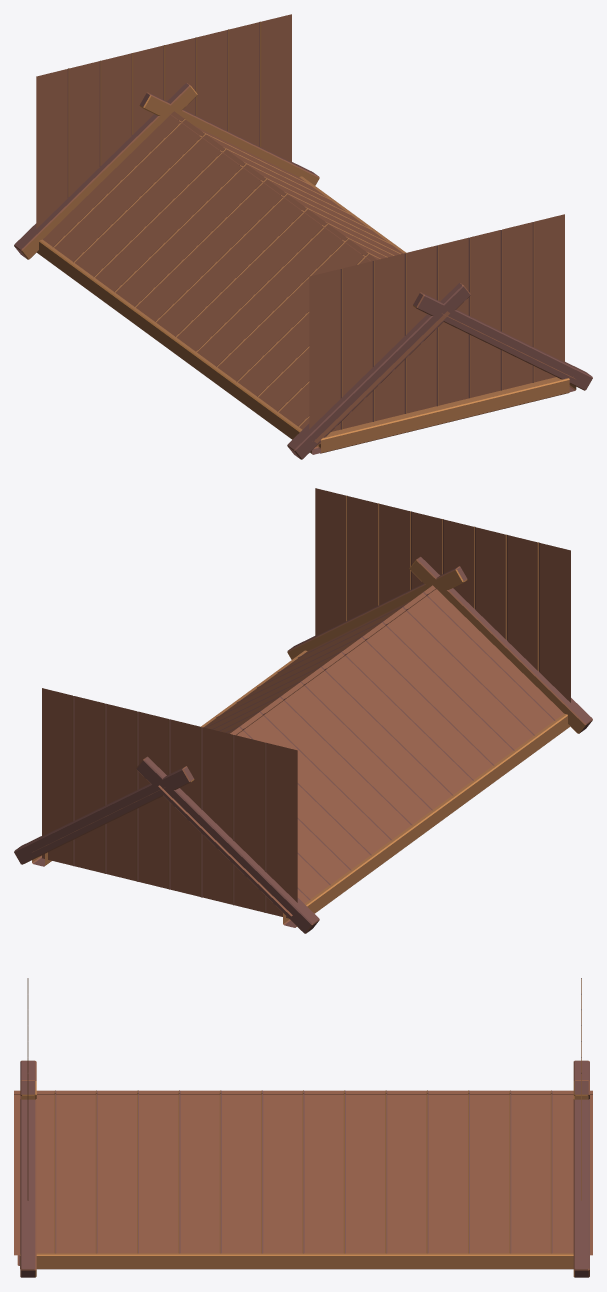
The model's file is Techo_01.FBX.
3 views of the same model, one above another, from view 1: azimuth 30°, elevation 25°; view 2: azimuth 150°, elevation 25°; view 3: azimuth 270°, elevation 25° (orthographic).
Parts seen in each view (by area): view 1: Techo; view 2: Techo; view 3: Techo.
Boxes of the visible parts, x1,y1,x2,y2 form: Techo: (14,14,592,459); Techo: (14,488,592,933); Techo: (14,978,592,1277).
Size of the model in its own units: 643 by 367 by 1065.
